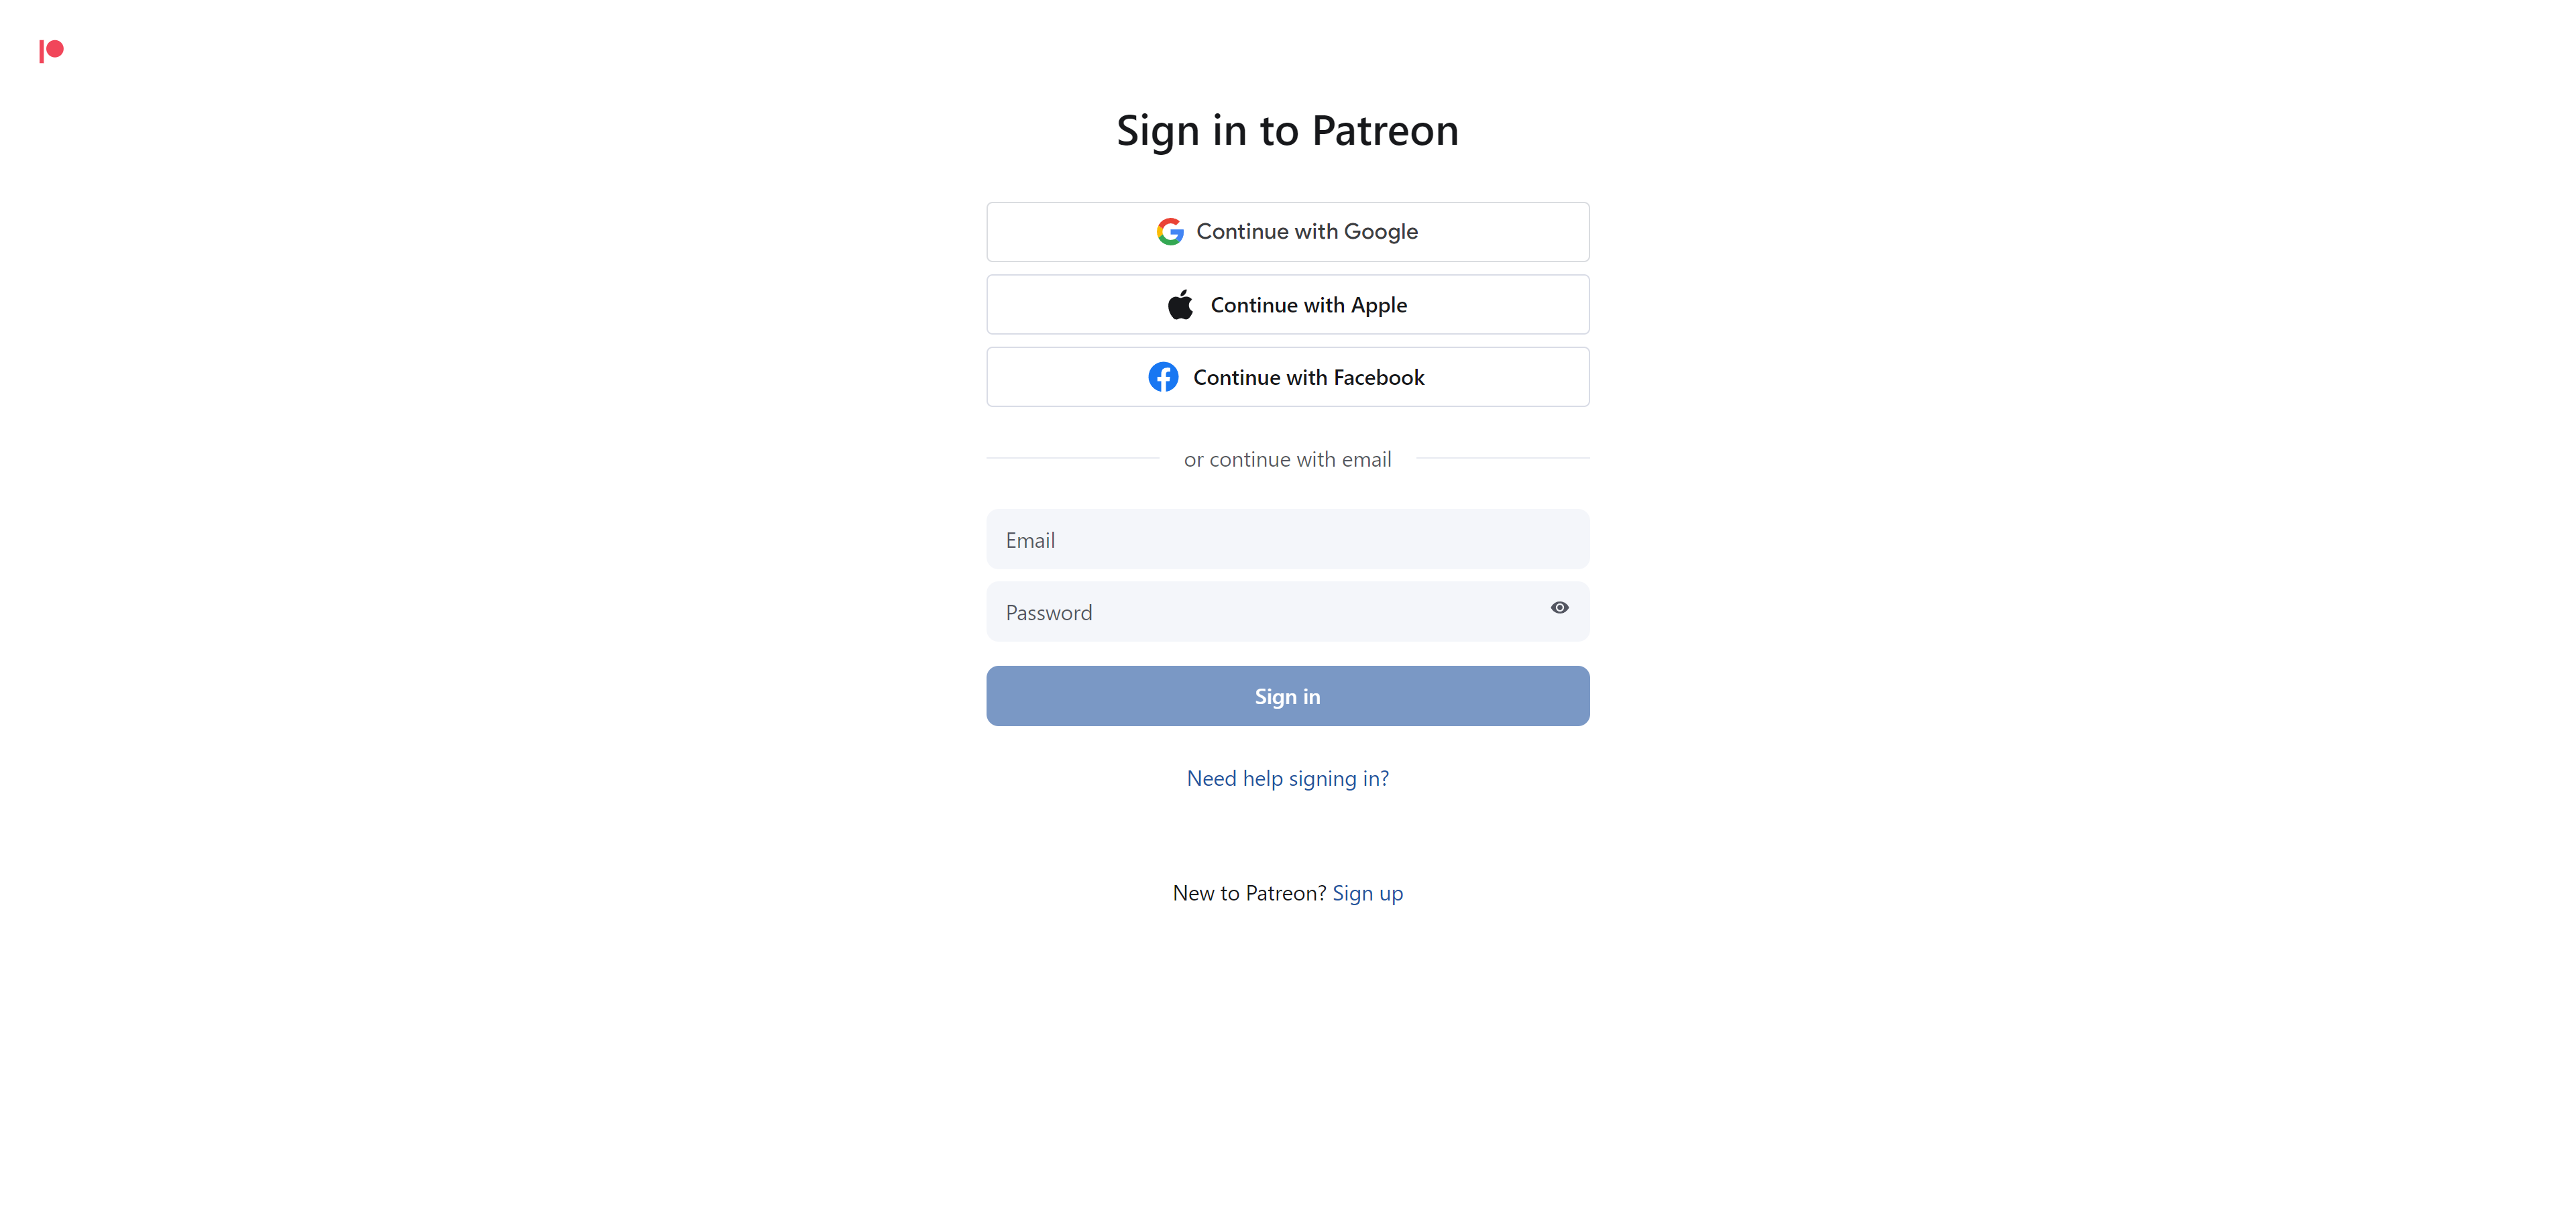login_button: (987, 666, 1590, 726)
login_form: (981, 503, 1597, 735)
